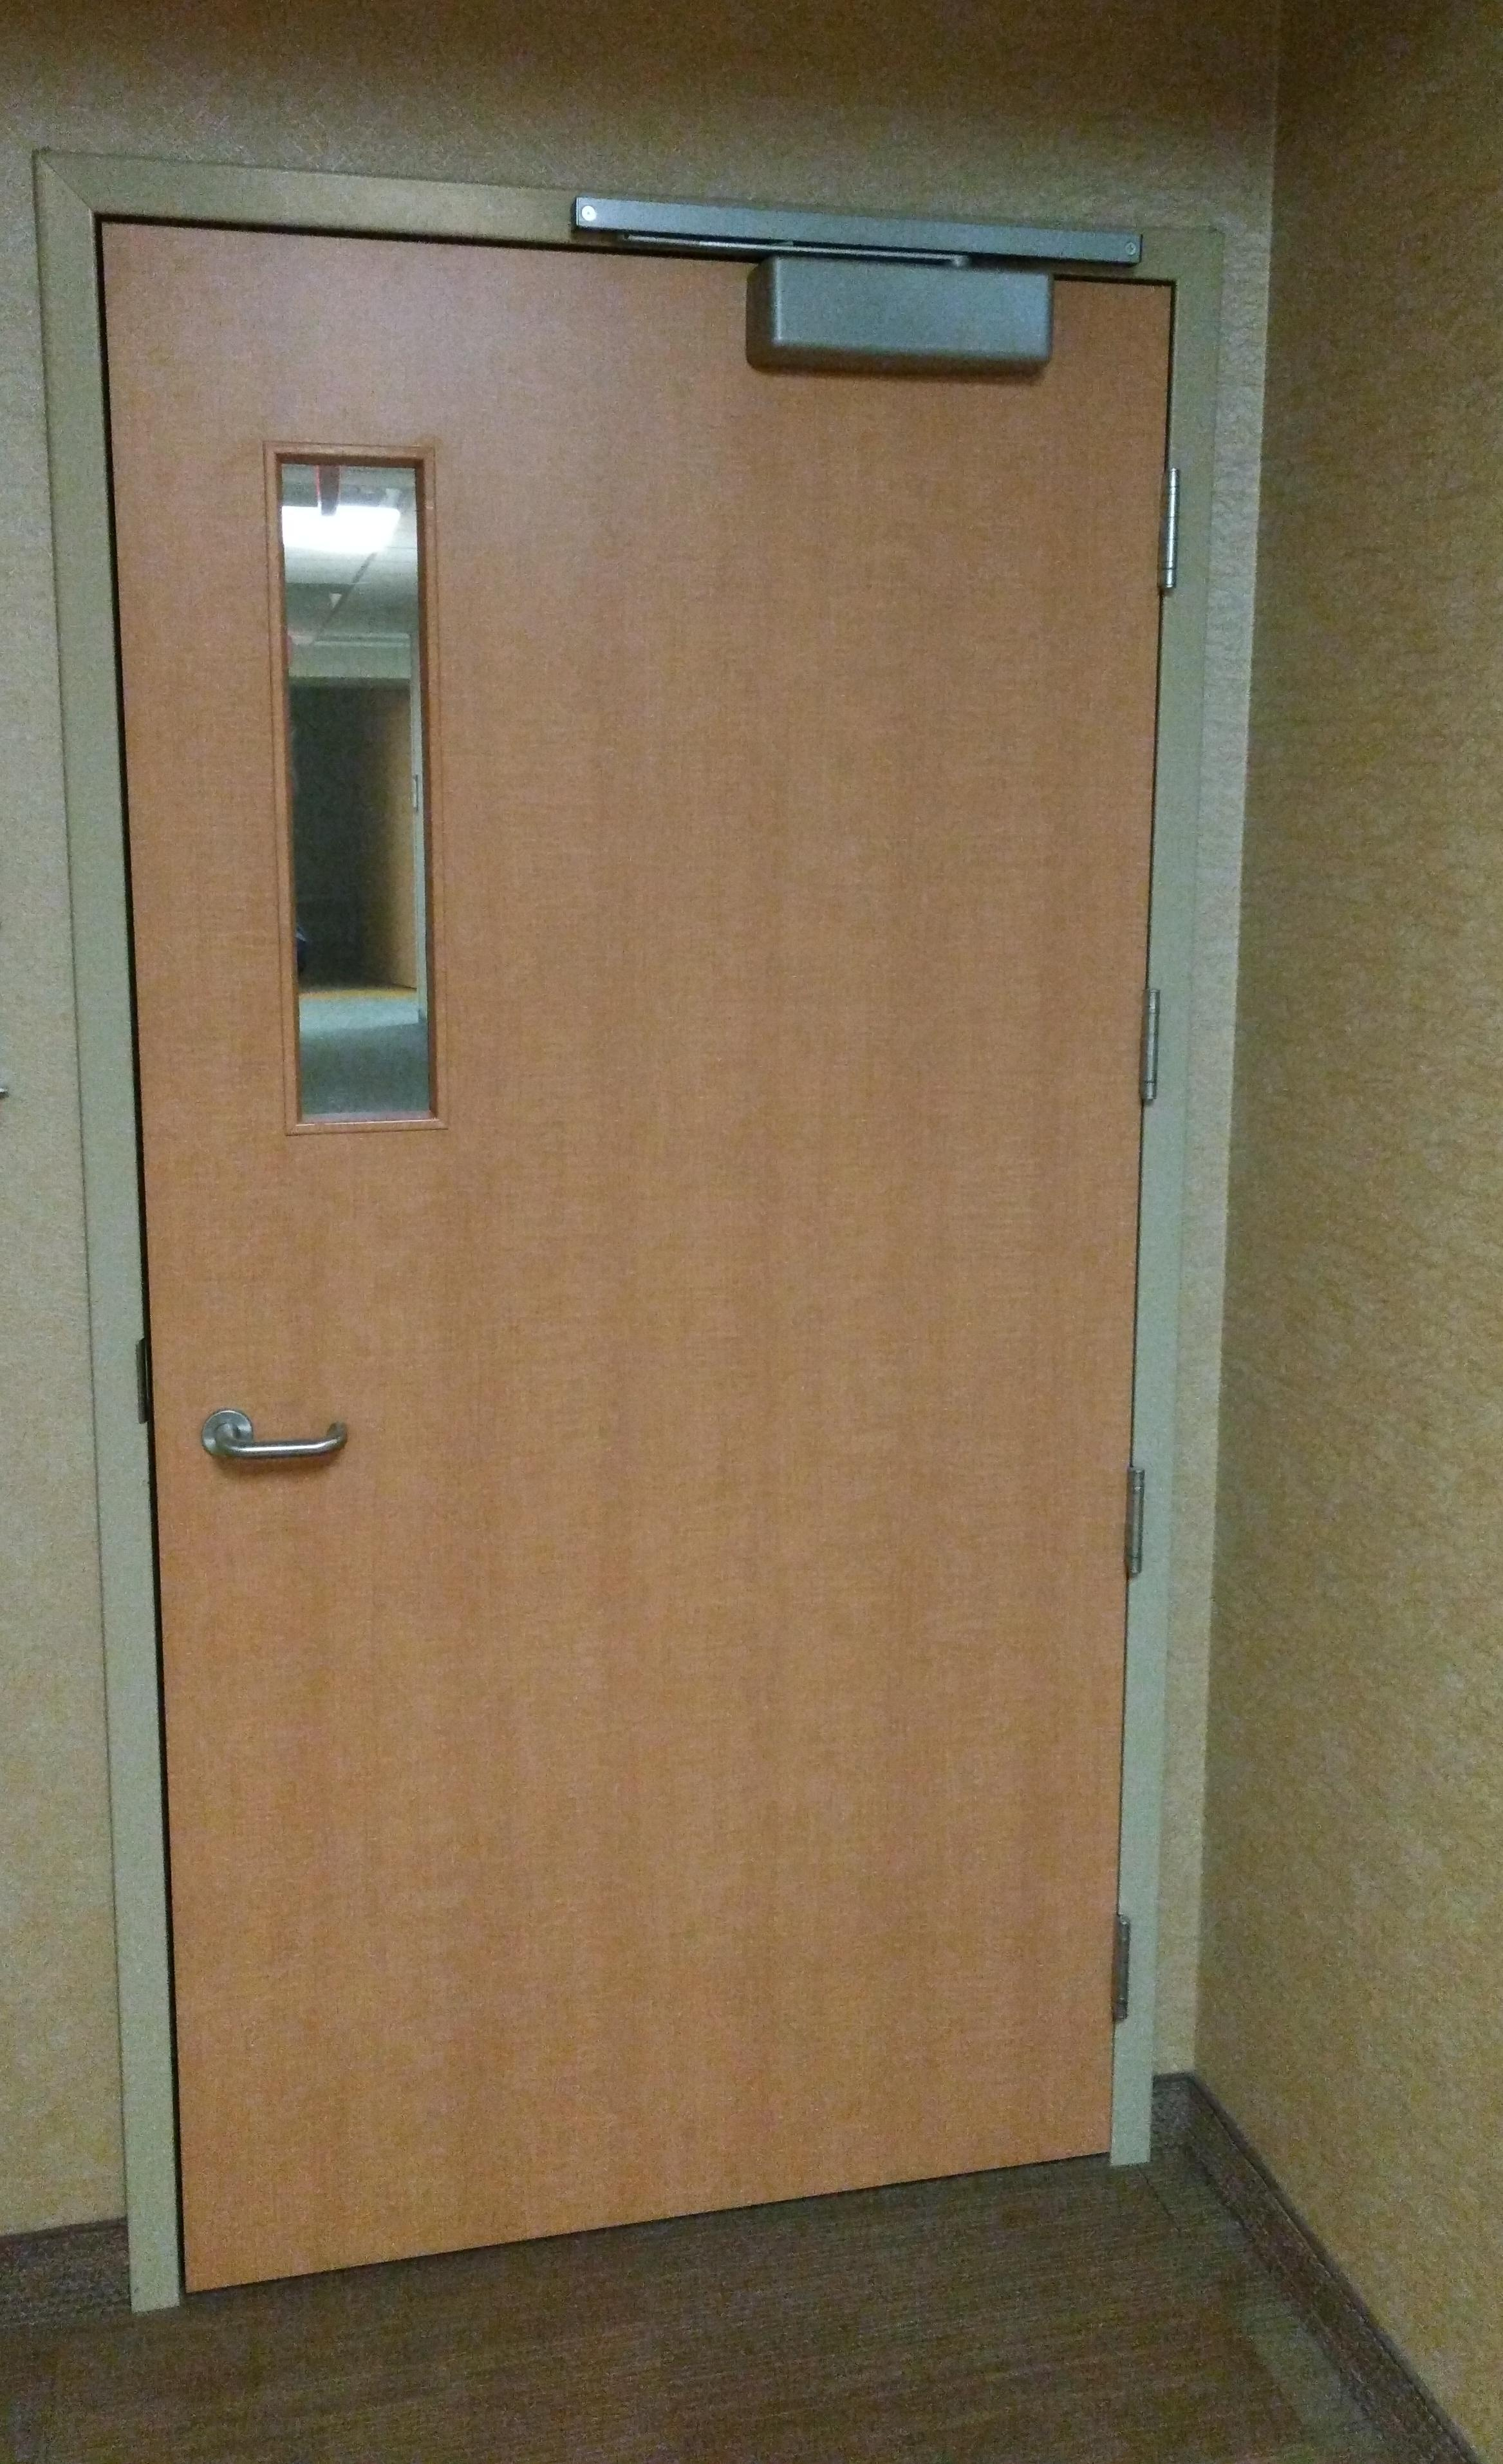door: (25, 118, 1228, 2346)
